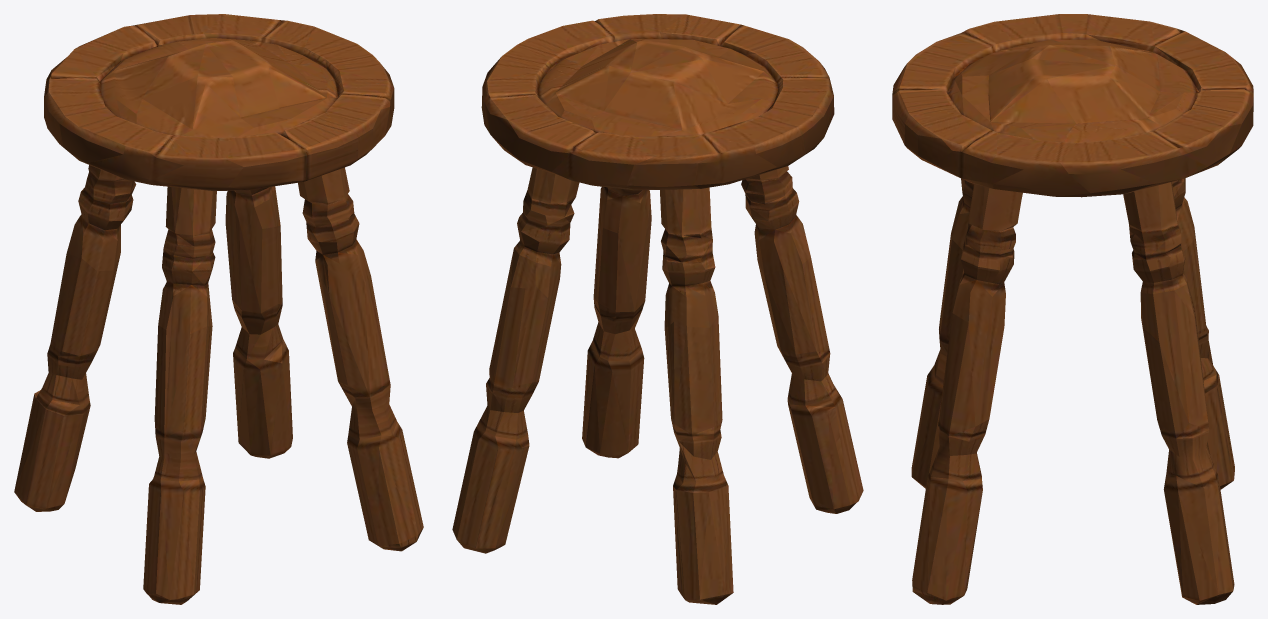
File: stool.glb
3 renders of one model, left to right at view 1: azimuth 30°, elevation 25°; view 2: azimuth 150°, elevation 25°; view 3: azimuth 270°, elevation 25°, orthographic. The views are drawn at different scales.
Parts seen in each view (by area): view 1: output_unwrapped; view 2: output_unwrapped; view 3: output_unwrapped.
Part boxes in pixels (<box>): output_unwrapped: <box>14,14,423,604</box>; output_unwrapped: <box>452,14,863,604</box>; output_unwrapped: <box>892,14,1253,604</box>.
Size of the model in its own units: 1.29 by 1.89 by 1.28.
1 material, 1 textured.
